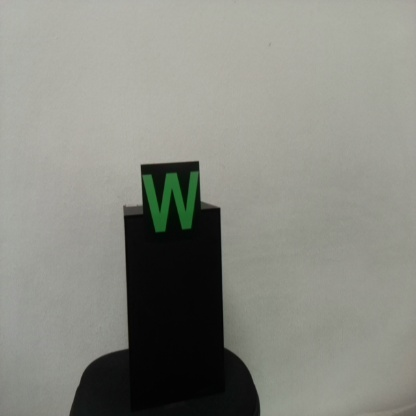id_12: (140, 164, 201, 241)
